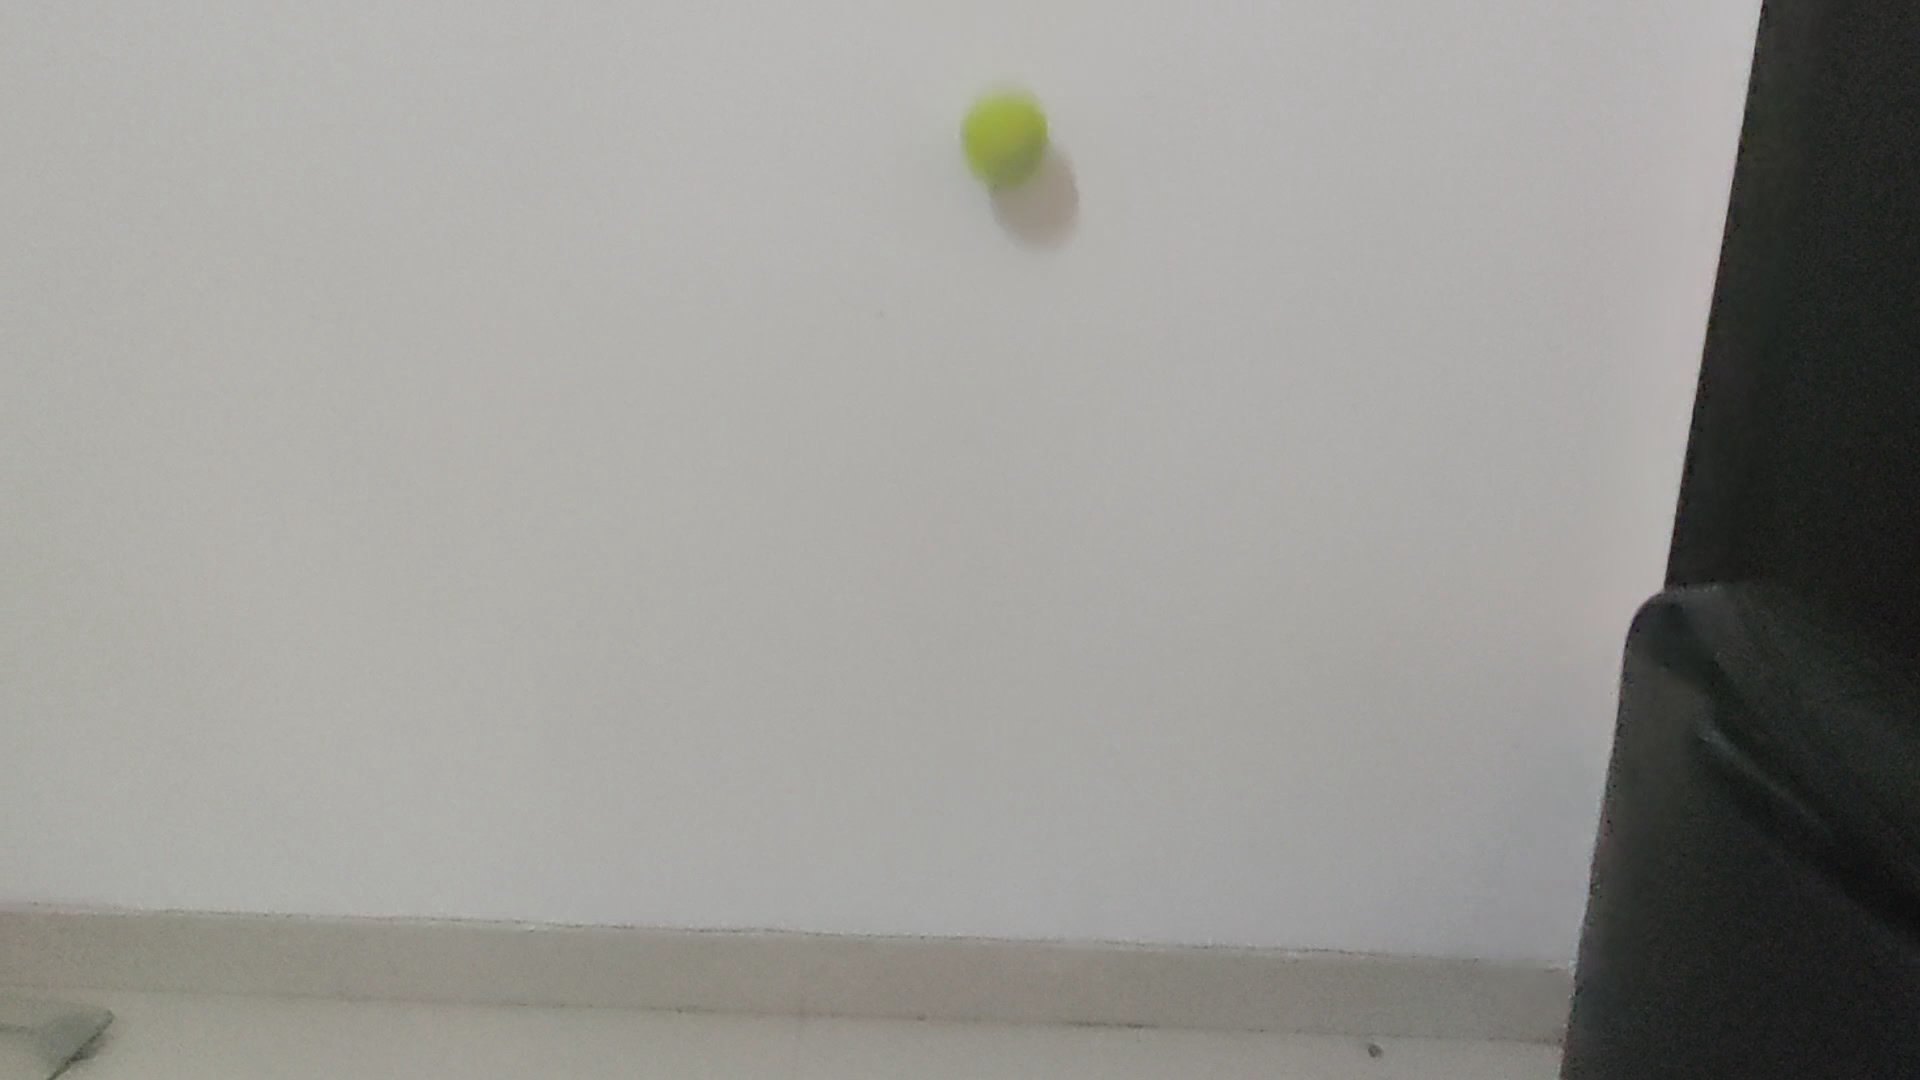Tennis-Ball: (959, 92, 1048, 187)
